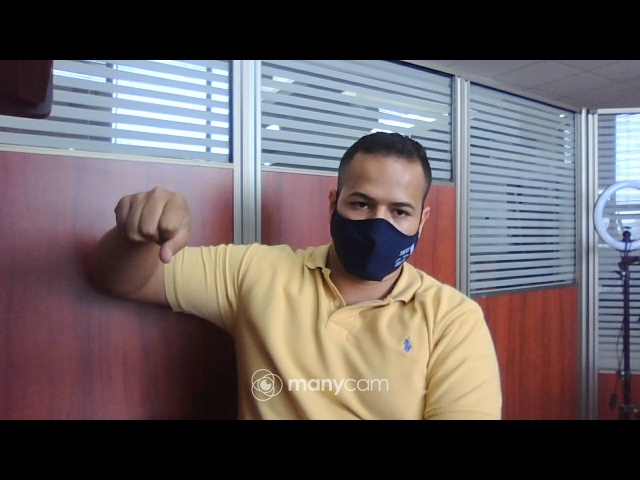Yes: (110, 178, 196, 266)
